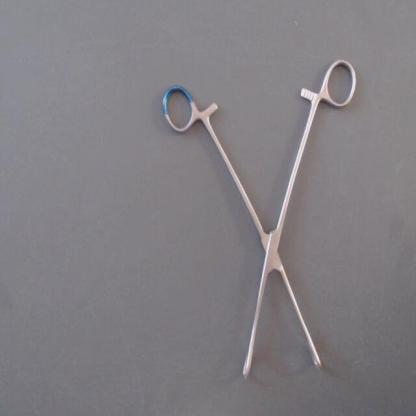Sponge Forceps: (154, 48, 360, 387)
